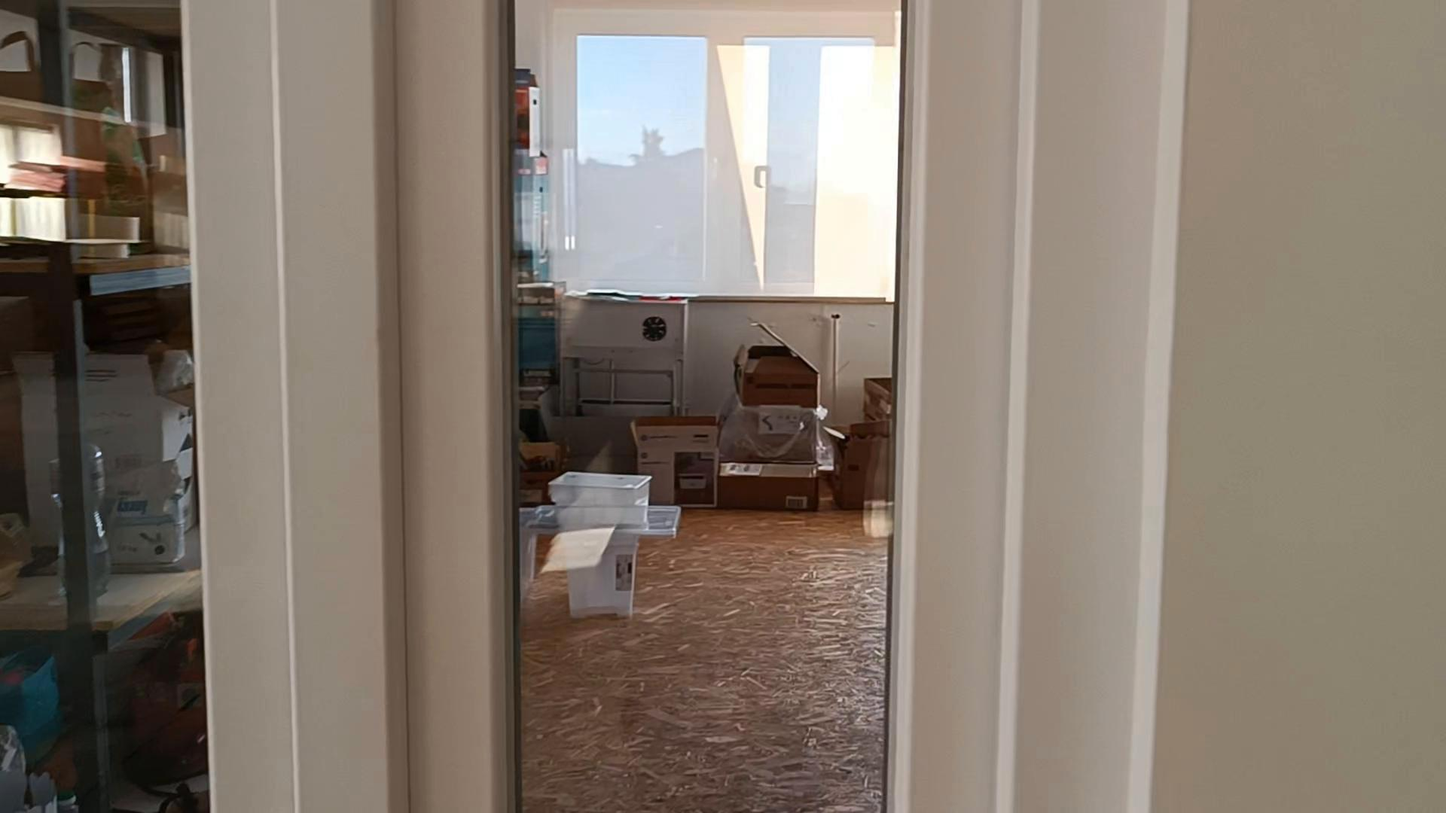floor: (520, 510, 886, 812)
wall: (1162, 8, 1445, 812)
